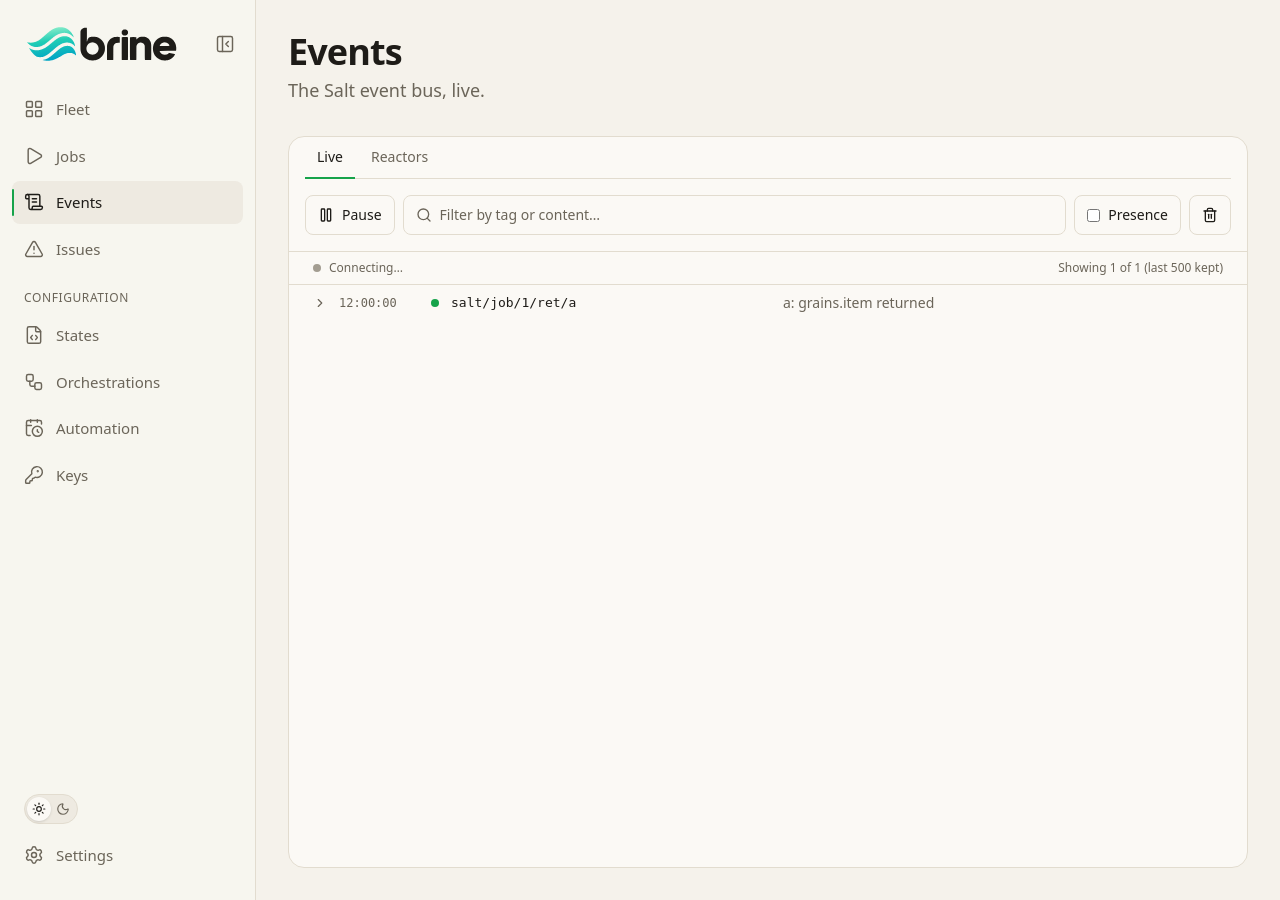
Scenario: EventsPage › expands an event to show its data
Click the button "12:00:00 salt/job/1/ret/a a: grains.item returned": (368, 303) [289, 285, 1247, 321]
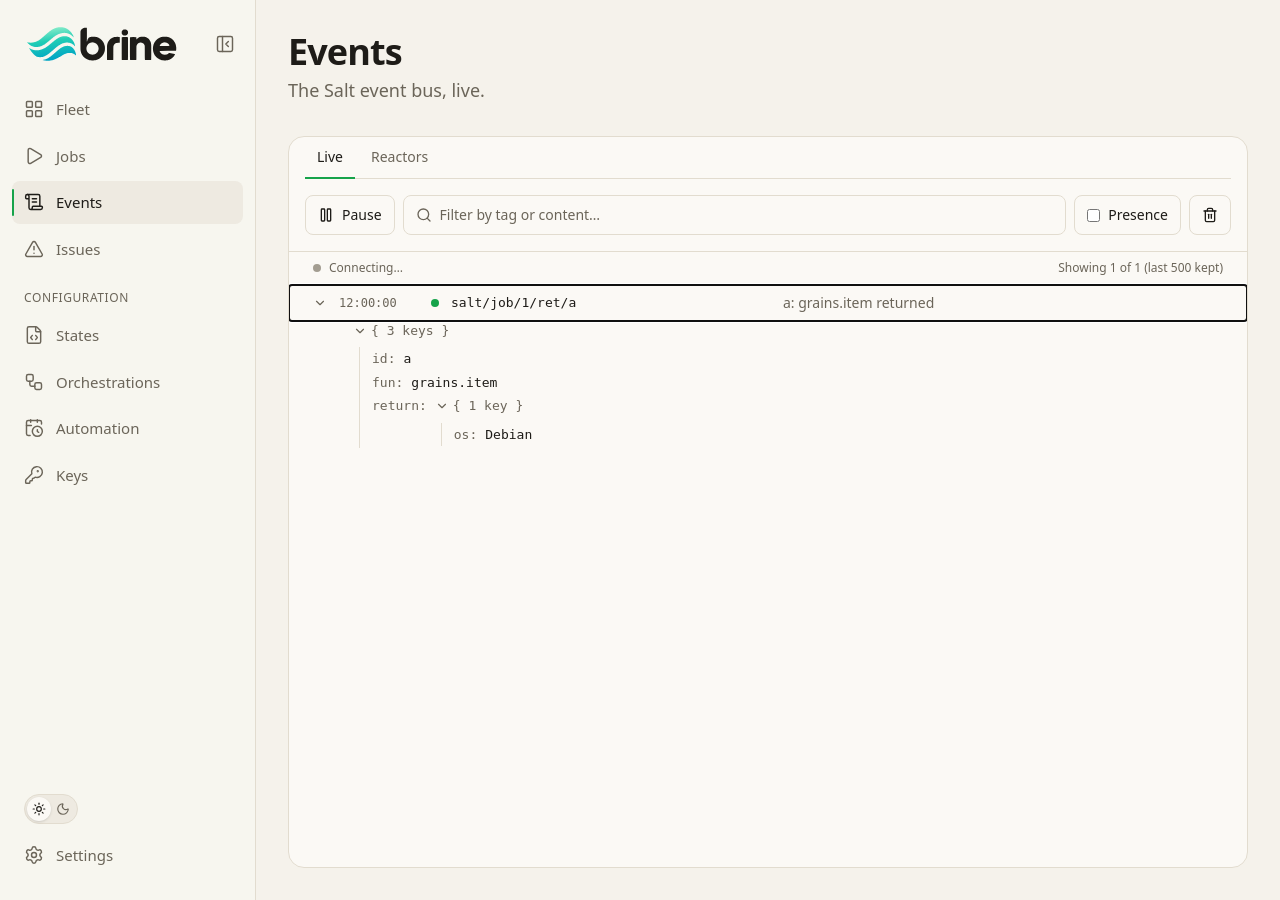
expect the text "Debian" is shown: met, box [485, 426, 532, 442]
